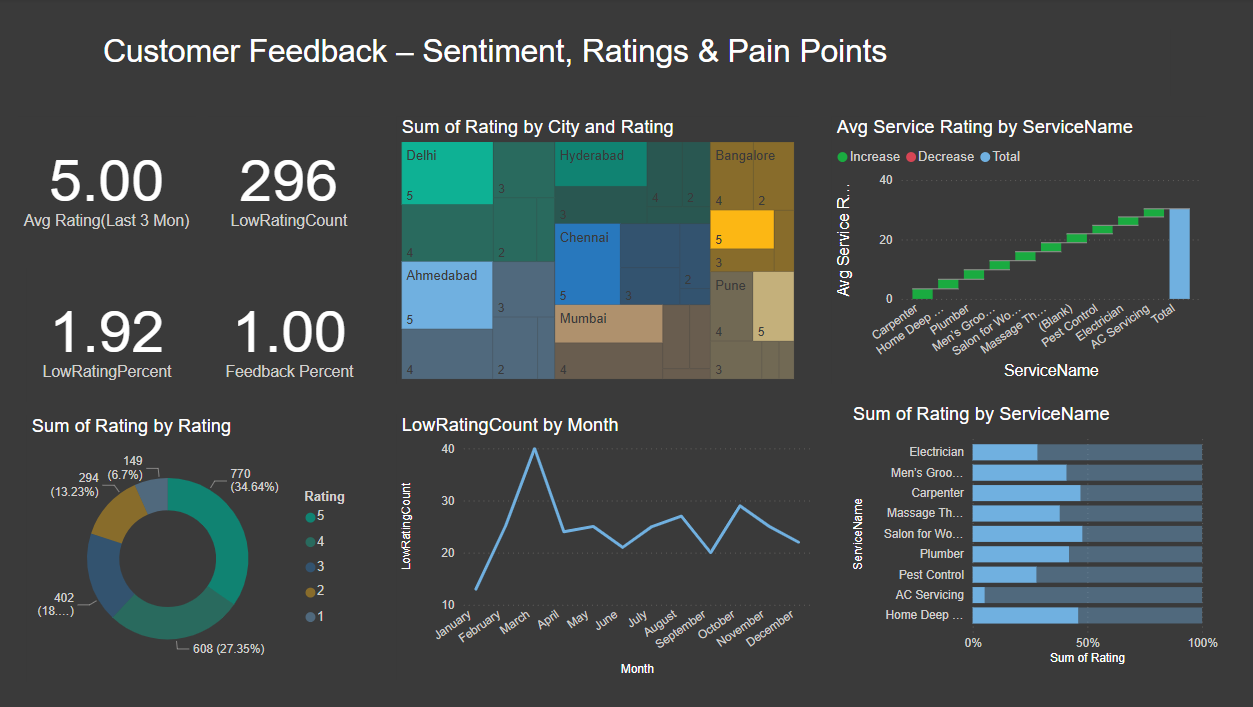

This screenshot's page, from the dashboard's own definition file:
{"tool":"powerbi","page":{"name":"Customer Feedback ","canvas":[1280,720],"ordinal":3},"visuals":[{"type":"textbox","box":[101.3,31.4,1087,67.6],"z":0},{"type":"card","fields":{"Values":["ratings.Avg Rating – Last 3 Months"]},"box":[20.5,120.6,179.8,136.3],"z":1000},{"type":"card","fields":{"Values":["ratings.FeedbackProvidedPercent"]},"box":[216,273.9,160.5,136.3],"z":2000},{"type":"card","fields":{"Values":["ratings.LowRatingPercent"]},"box":[29,273.9,162.9,136.3],"z":3000},{"type":"card","fields":{"Values":["ratings.LowRatingCount"]},"box":[212.3,120.6,164.1,136.3],"z":4000},{"type":"donutChart","fields":{"Y":["Sum(ratings.Rating)"],"Series":["ratings.Rating"]},"box":[29.1,423.3,347.2,269.9],"z":5000},{"type":"hundredPercentStackedBarChart","fields":{"Category":["services.ServiceName"],"Y":["Sum(ratings.Rating)"]},"box":[861.8,410.6,380.2,269.9],"z":6000},{"type":"lineChart","fields":{"Category":["ratings.RatingDate.Variation.Date Hierarchy.Month"],"Y":["ratings.LowRatingCount"]},"box":[404.3,422,424.6,269.9],"z":7000},{"type":"treemap","fields":{"Group":["customers.City"],"Values":["Sum(ratings.Rating)"],"Details":["ratings.Rating"]},"box":[404.3,120.4,408.1,271.2],"z":8000},{"type":"waterfallChart","fields":{"Category":["services.ServiceName"],"Y":["services.Avg Service Rating"]},"box":[845.3,120.4,378.9,271.2],"z":9000}]}

Visuals, with their boxes in screenshot pixels (x1, y1, x2, y2), scaled from the page's 1280x720 canvas onto the 1253x707 screenshot:
textbox: detection(99, 31, 1163, 97)
card - ratings.Avg Rating – Last 3 Months: detection(20, 118, 196, 252)
card - ratings.FeedbackProvidedPercent: detection(211, 269, 369, 403)
card - ratings.LowRatingPercent: detection(28, 269, 188, 403)
card - ratings.LowRatingCount: detection(208, 118, 368, 252)
donutChart - Sum(ratings.Rating) x ratings.Rating: detection(28, 416, 368, 681)
hundredPercentStackedBarChart - services.ServiceName x Sum(ratings.Rating): detection(844, 403, 1216, 668)
lineChart - ratings.RatingDate.Variation.Date Hierarchy.Month x ratings.LowRatingCount: detection(396, 414, 811, 679)
treemap - customers.City x Sum(ratings.Rating): detection(396, 118, 795, 385)
waterfallChart - services.ServiceName x services.Avg Service Rating: detection(827, 118, 1198, 385)
